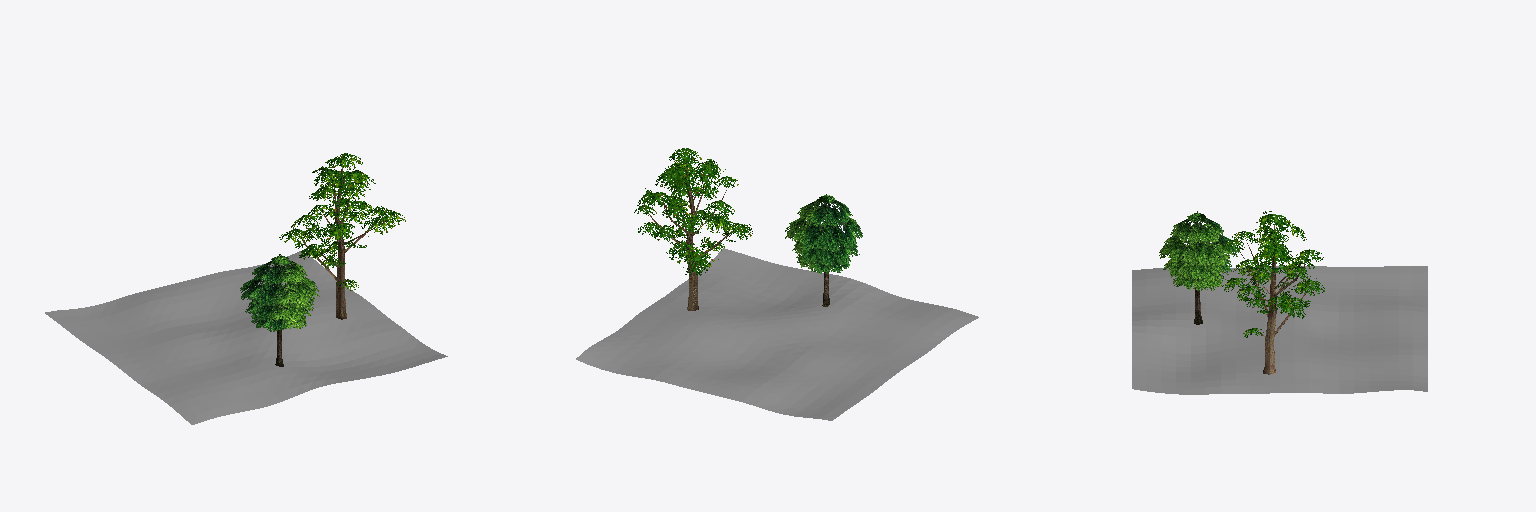
3 views of the same model, side by side, from view 1: azimuth 30°, elevation 25°; view 2: azimuth 150°, elevation 25°; view 3: azimuth 270°, elevation 25° (orthographic).
Visible parts, largest first — view 1: terrain, tree1, tree2; view 2: terrain, tree1, tree2; view 3: terrain, tree1, tree2.
Boxes of the visible parts, x1=… form: terrain: x1=45, y1=251, x2=447, y2=424; tree1: x1=279, y1=153, x2=405, y2=319; tree2: x1=240, y1=254, x2=319, y2=366; terrain: x1=576, y1=248, x2=978, y2=420; tree1: x1=634, y1=148, x2=752, y2=310; tree2: x1=785, y1=194, x2=862, y2=306; terrain: x1=1132, y1=266, x2=1427, y2=394; tree1: x1=1222, y1=211, x2=1324, y2=374; tree2: x1=1159, y1=211, x2=1238, y2=324.
Size of the model in its own units: 10.76 by 6.3 by 10.
3 materials, 2 textured.